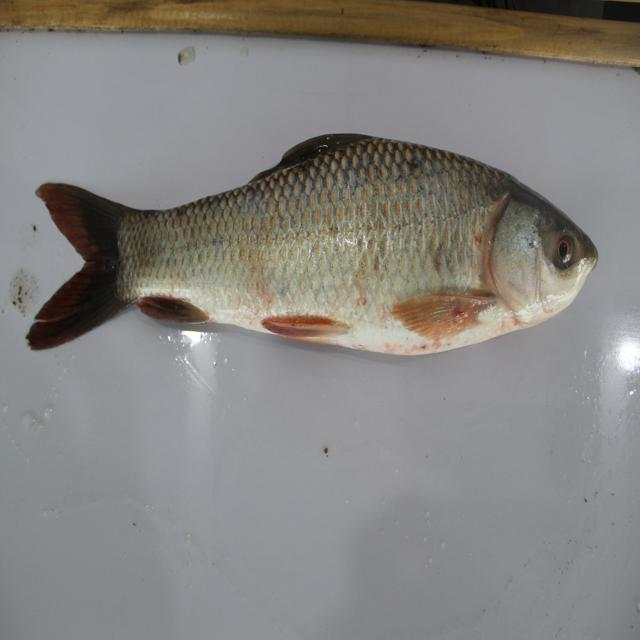Grass Carp: (31, 132, 604, 368)
